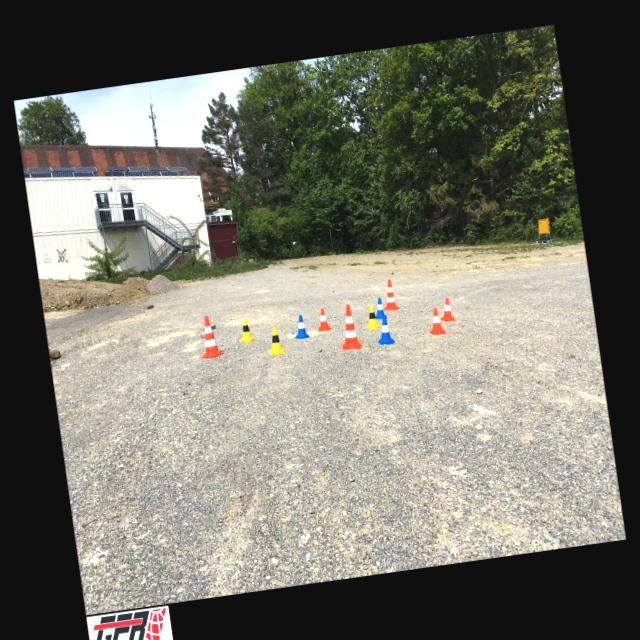blue_cone: (375, 316, 395, 345), (292, 314, 310, 340), (372, 297, 388, 320)
large_orange_cone: (197, 314, 224, 360), (338, 304, 362, 350), (380, 279, 399, 311)
orange_cone: (426, 308, 446, 336), (438, 298, 455, 322), (316, 308, 331, 332)
yellow_cone: (266, 327, 286, 356), (362, 304, 382, 330), (236, 318, 256, 343)
